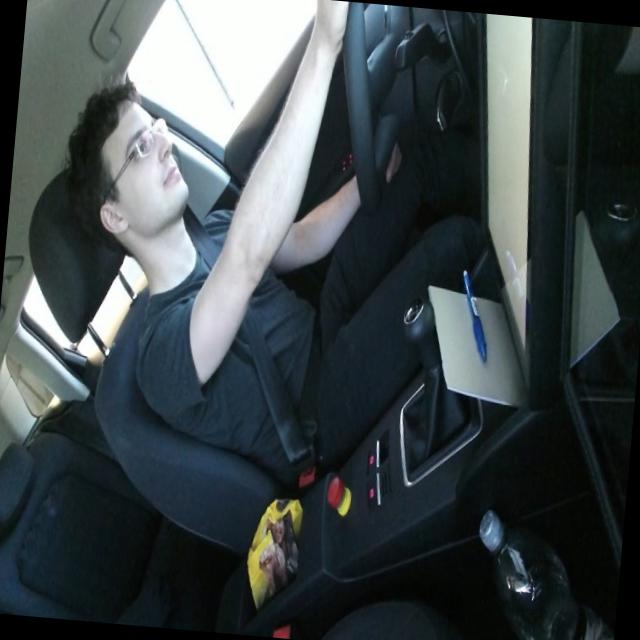pen: (454, 266, 494, 362)
